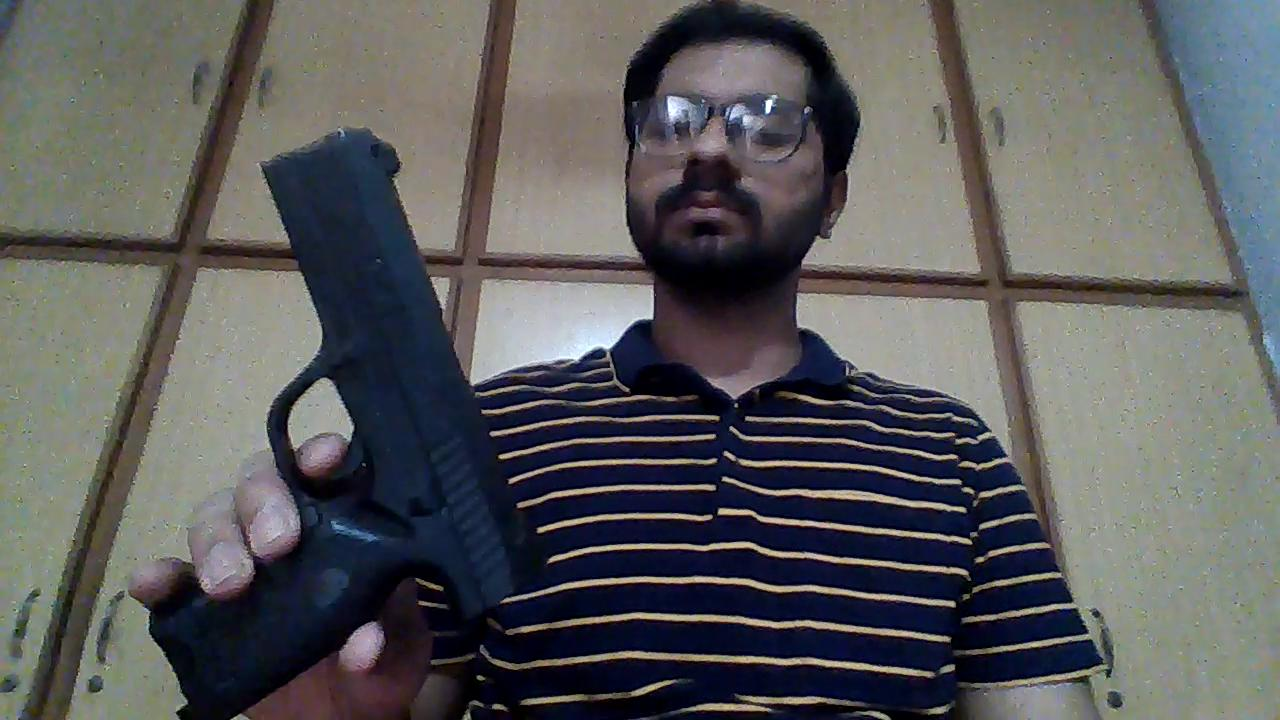criminal: (129, 0, 1109, 720)
weapon: (143, 121, 546, 720)
